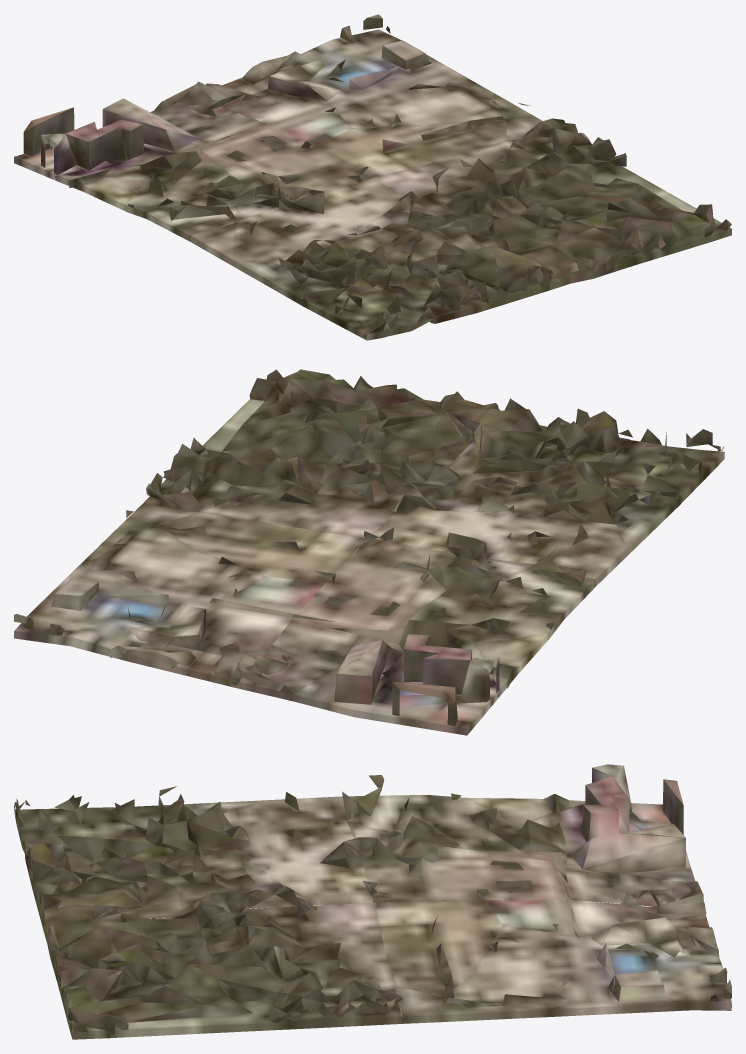
3 views of the same model, one above another, from view 1: azimuth 30°, elevation 25°; view 2: azimuth 150°, elevation 25°; view 3: azimuth 270°, elevation 25° (orthographic). The views are drawn at different scales.
Visible parts, largest first — view 1: Mesh_0; view 2: Mesh_0; view 3: Mesh_0.
Boxes of the visible parts, <box> form: Mesh_0: <box>14,14,731,340</box>; Mesh_0: <box>14,369,724,735</box>; Mesh_0: <box>14,764,731,1039</box>.
Bounding box in the file's own units: 533 × 61.96 × 660.
1 material, 1 textured.
